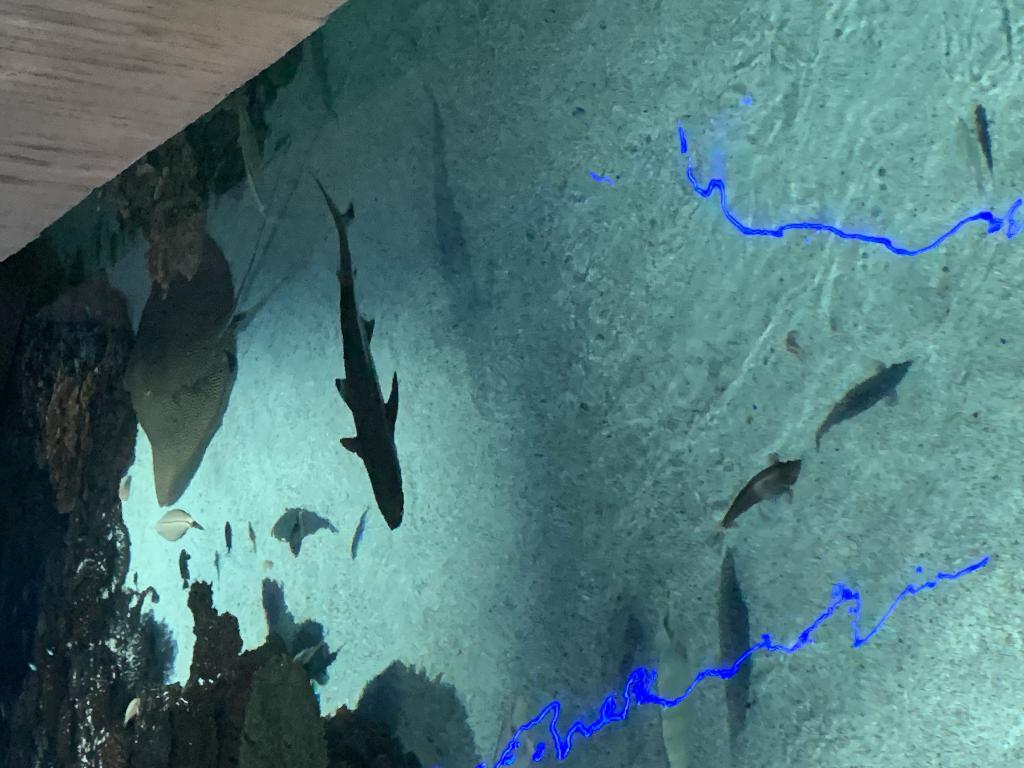Shark: (314, 176, 404, 531)
Stringray: (125, 194, 273, 508)
